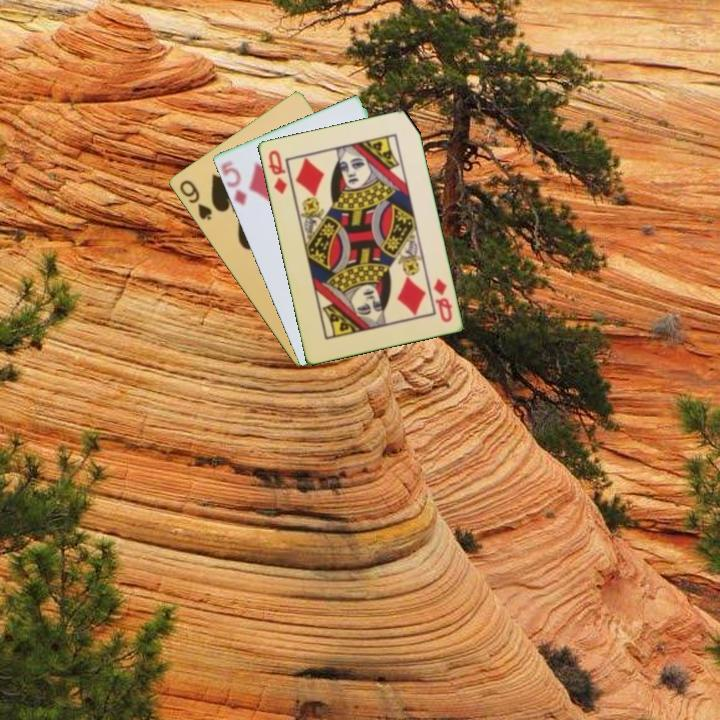5d: (217, 157, 249, 209)
9s: (176, 176, 215, 223)
Qd: (264, 146, 290, 197), (430, 274, 455, 325)
